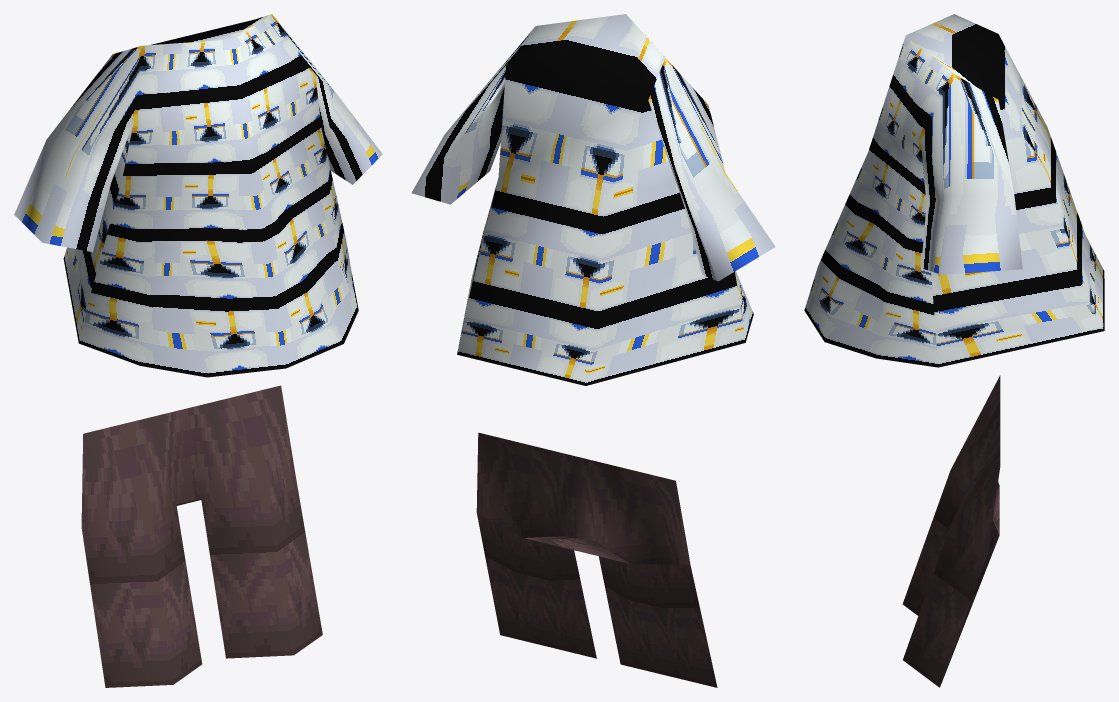
The model's file is 1756cl_set_bot.gltf.
3 views of the same model, side by side, from view 1: azimuth 30°, elevation 25°; view 2: azimuth 150°, elevation 25°; view 3: azimuth 270°, elevation 25° (orthographic). The views are drawn at different scales.
Visible parts, largest first — view 1: 1756cl_set_bot; view 2: 1756cl_set_bot; view 3: 1756cl_set_bot.
Boxes of the visible parts, bbox=[...] form: 1756cl_set_bot: bbox=[14, 14, 382, 687]; 1756cl_set_bot: bbox=[411, 14, 775, 687]; 1756cl_set_bot: bbox=[804, 14, 1104, 687].
Size of the model in its own units: 1.09 by 1.96 by 0.8848.
2 materials, 2 textured.
